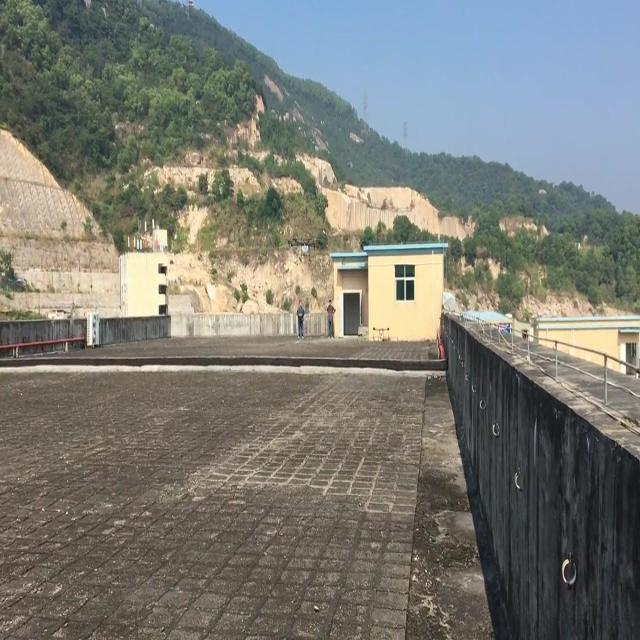UAV: (288, 238, 320, 263)
